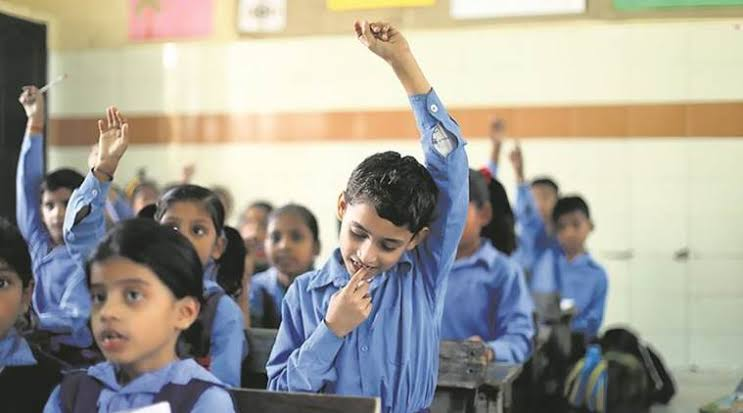student: (79, 228, 206, 369), (331, 158, 430, 279), (149, 190, 239, 270)
